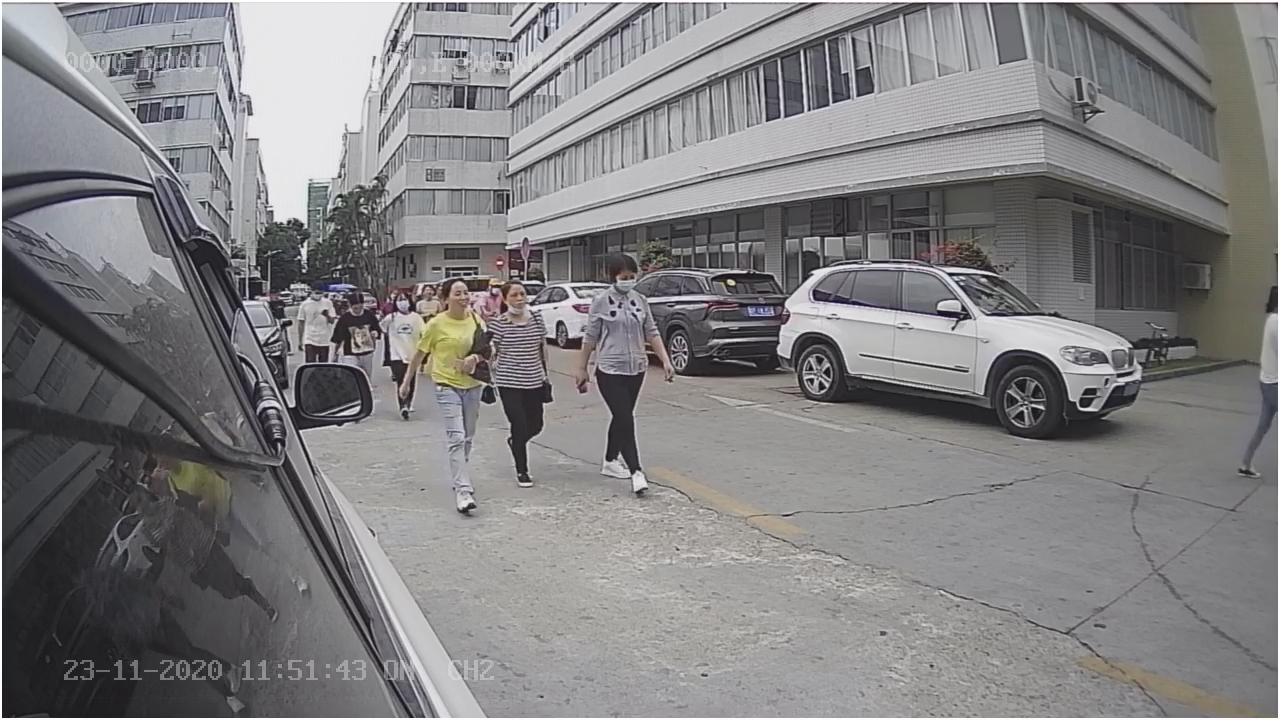person: (573, 242, 675, 494), (394, 266, 494, 511)
